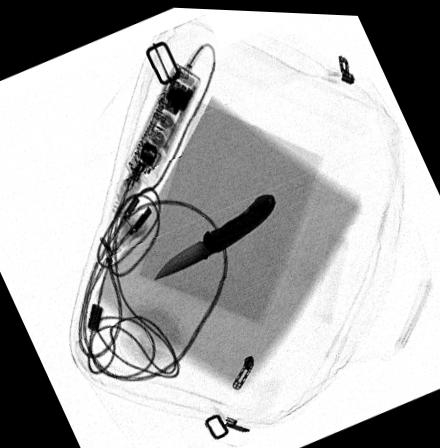Knife: (152, 190, 275, 279)
